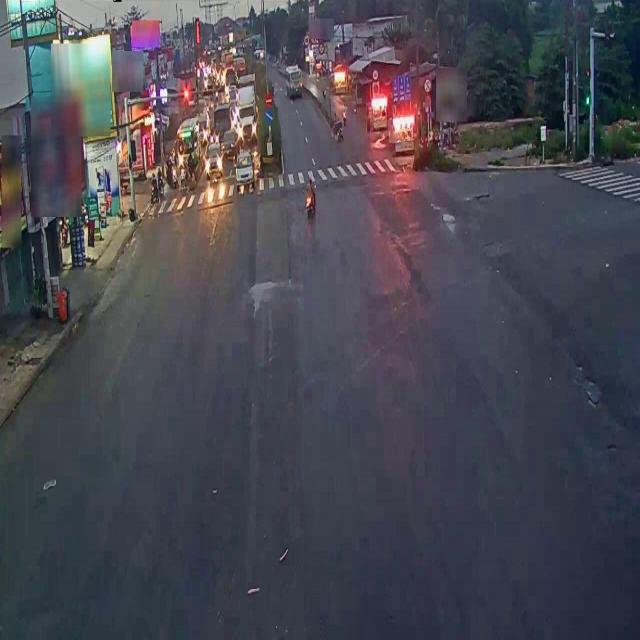motorcycle: (304, 171, 316, 217)
